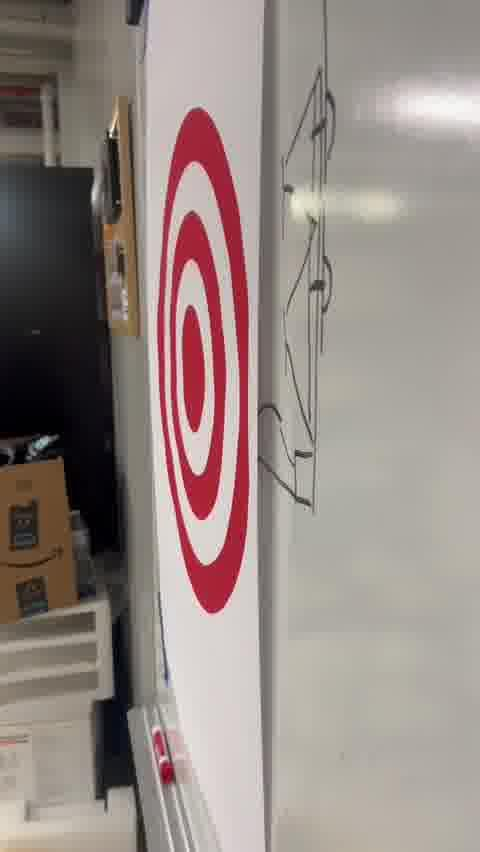target_red: (158, 106, 254, 614)
